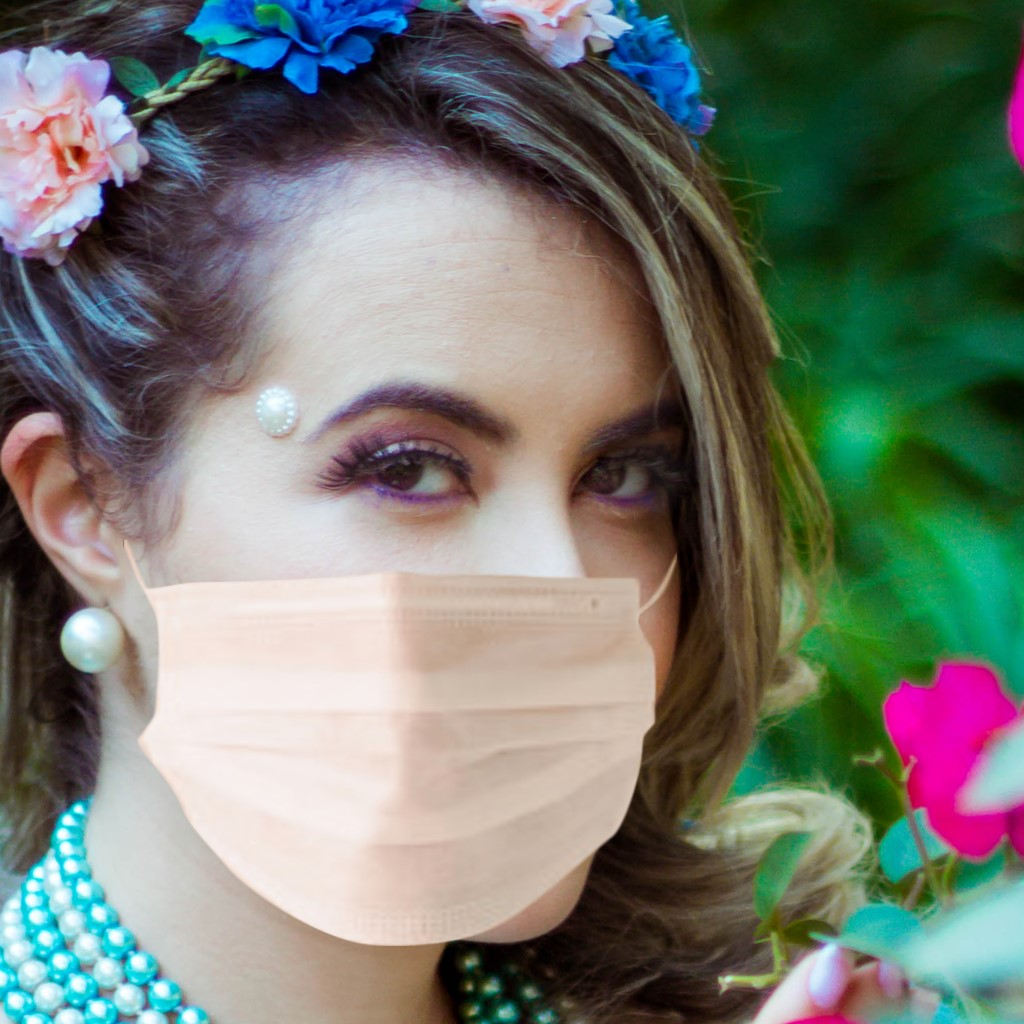con_mascara: (168, 155, 683, 949)
